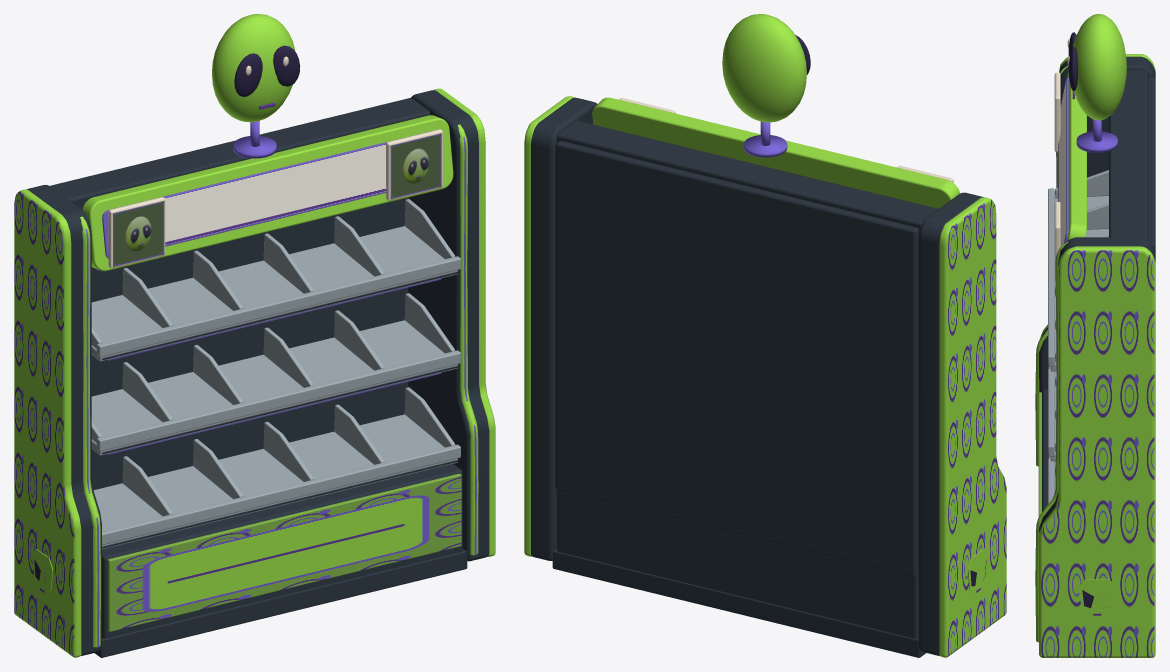
The model's file is TH_ALIEN.fbx.
3 views of the same model, side by side, from view 1: azimuth 30°, elevation 25°; view 2: azimuth 150°, elevation 25°; view 3: azimuth 270°, elevation 25° (orthographic). The views are drawn at different scales.
Visible parts, largest first — view 1: BaseFrontInset, Left_PaintedPanel, BackPanel.001, Right_StructuralWall, Tray_01, Tray_02, Tray_03, HeaderFace, HeaderBorder, TopCrossRail, Left_StructuralWall, ClosedSolidBase (+35 smaller); view 2: BackPanel.001, Left_PaintedPanel, ClosedSolidBase, Right_StructuralWall, HeaderBorder, Left_StructuralWall, TopCrossRail, Alien head, LowerPlinth, Right_PaintedPanel, TopperMount; view 3: Right_PaintedPanel, TopCrossRail, Alien head, HeaderBorder, Left_StructuralWall, HeaderFace, BackPanel.001, RightHousing, FrontLip_01, Relief.012, Right_StructuralWall, ClosedSolidBase (+13 smaller).
Boxes of the visible parts, left/top/right/bottom form: BaseFrontInset: left=107, top=473, right=461, bottom=631; Left_PaintedPanel: left=14, top=189, right=81, bottom=657; BackPanel.001: left=91, top=197, right=408, bottom=489; Right_StructuralWall: left=408, top=90, right=489, bottom=561; Tray_01: left=91, top=226, right=457, bottom=361; Tray_02: left=91, top=320, right=457, bottom=455; Tray_03: left=93, top=414, right=457, bottom=549; HeaderFace: left=102, top=131, right=431, bottom=258; HeaderBorder: left=82, top=115, right=453, bottom=271; TopCrossRail: left=50, top=98, right=430, bottom=209; Left_StructuralWall: left=27, top=185, right=101, bottom=655; ClosedSolidBase: left=102, top=464, right=462, bottom=638; BackPanel.001: left=555, top=141, right=918, bottom=576; Left_PaintedPanel: left=939, top=197, right=1006, bottom=657; ClosedSolidBase: left=557, top=490, right=918, bottom=638; Right_StructuralWall: left=531, top=97, right=597, bottom=560; HeaderBorder: left=592, top=97, right=959, bottom=208; Left_StructuralWall: left=918, top=192, right=983, bottom=655; TopCrossRail: left=557, top=120, right=938, bottom=235; Alien head: left=722, top=14, right=806, bottom=122; LowerPlinth: left=552, top=549, right=925, bottom=657; Right_PaintedPanel: left=524, top=96, right=574, bottom=556; TopperMount: left=743, top=135, right=787, bottom=157; Right_PaintedPanel: left=1039, top=246, right=1155, bottom=657; TopCrossRail: left=1109, top=70, right=1147, bottom=239; Alien head: left=1073, top=14, right=1126, bottom=120; HeaderBorder: left=1067, top=71, right=1086, bottom=240; Left_StructuralWall: left=1039, top=56, right=1155, bottom=392; HeaderFace: left=1058, top=77, right=1068, bottom=246; BackPanel.001: left=1147, top=77, right=1155, bottom=252; RightHousing: left=1035, top=241, right=1068, bottom=642; FrontLip_01: left=1048, top=188, right=1055, bottom=366; Relief.012: left=1078, top=579, right=1116, bottom=623; Right_StructuralWall: left=1039, top=237, right=1155, bottom=532; ClosedSolidBase: left=1042, top=389, right=1047, bottom=511.
Bounding box in the file's own units: 3.62 × 4.68 × 0.9273.
